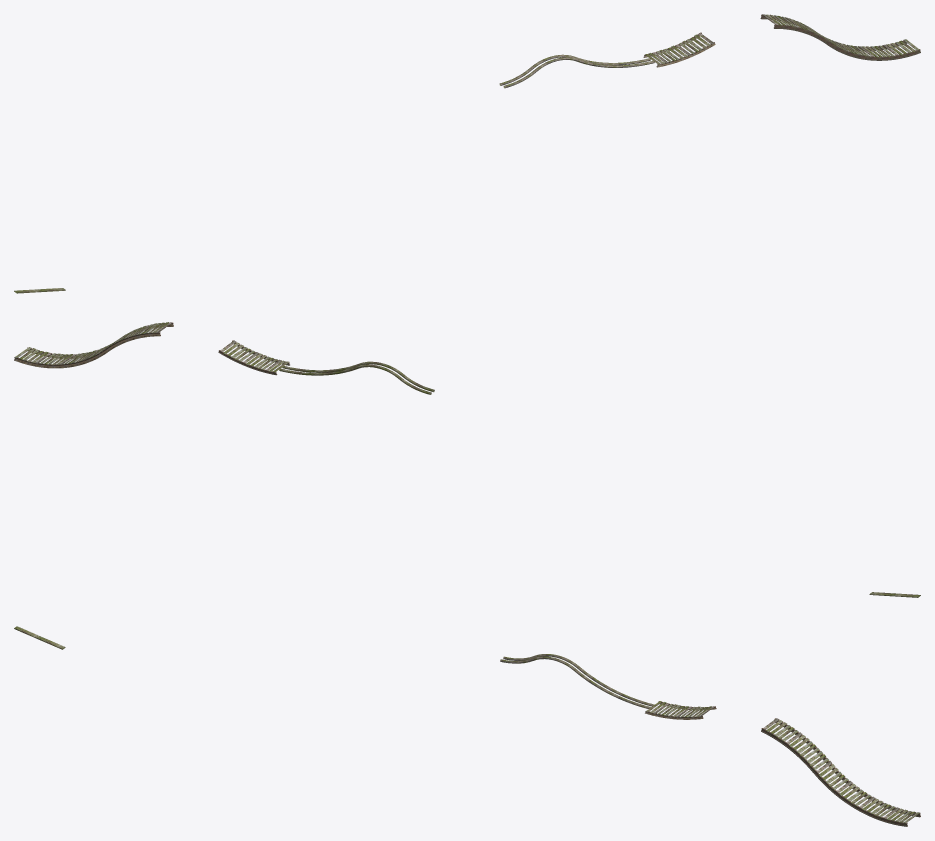
3 views of the same model, one above another, from view 1: azimuth 30°, elevation 25°; view 2: azimuth 150°, elevation 25°; view 3: azimuth 330°, elevation 25° (orthographic).
Visible parts, largest first — view 1: Ramp.037, Ramp.002, ramp, Ramp.038; view 2: Ramp.037, Ramp.002, ramp, Ramp.038; view 3: Ramp.037, Ramp.038, ramp, Ramp.002.
Part boxes in pixels (bbox=[...]): Ramp.037: bbox=[820, 34, 920, 60]; Ramp.002: bbox=[643, 32, 715, 67]; ramp: bbox=[499, 54, 654, 88]; Ramp.038: bbox=[760, 14, 828, 44]; Ramp.037: bbox=[14, 341, 115, 368]; Ramp.002: bbox=[218, 340, 289, 375]; ramp: bbox=[279, 361, 434, 394]; Ramp.038: bbox=[106, 322, 173, 351]; Ramp.037: bbox=[813, 761, 920, 826]; Ramp.038: bbox=[761, 718, 829, 772]; ramp: bbox=[500, 654, 654, 708]; Ramp.002: bbox=[645, 701, 716, 719].
Bounding box in the file's own units: 7264 × 859 × 209.
